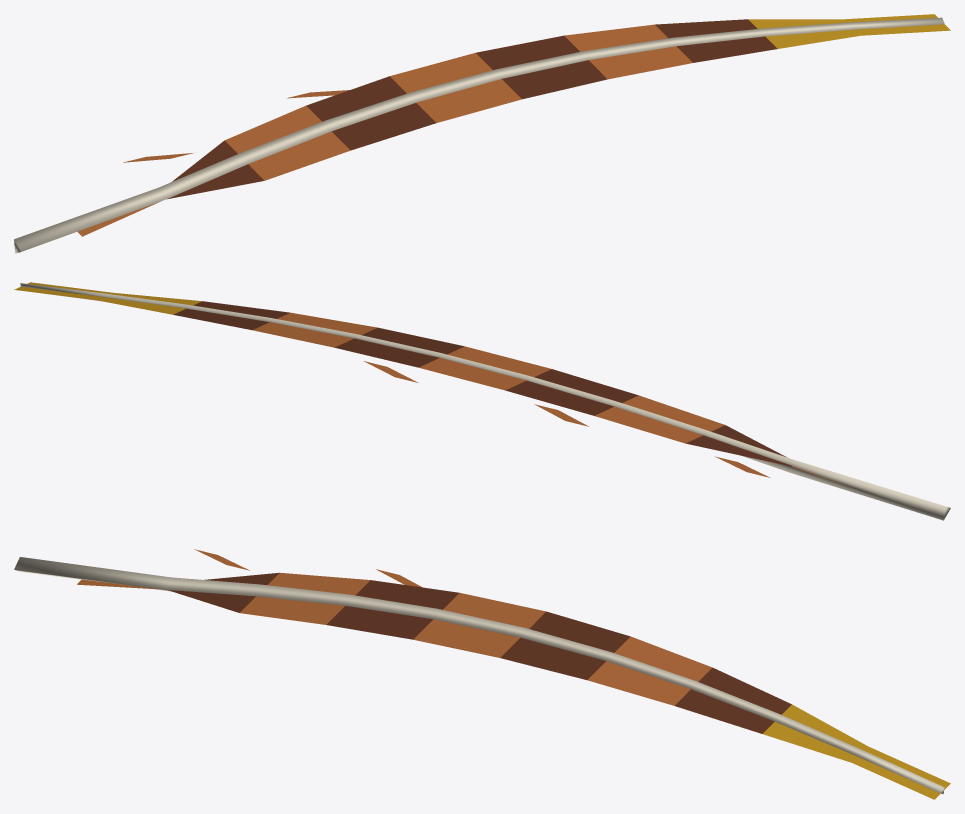
Rendered from col_feather_pheasant.gltf.
3 renders of one model, top to bottom at view 1: azimuth 30°, elevation 25°; view 2: azimuth 150°, elevation 25°; view 3: azimuth 330°, elevation 25°, orthographic.
Parts seen in each view (by area): view 1: col_feather_pheasant; view 2: col_feather_pheasant; view 3: col_feather_pheasant.
Part boxes in pixels (x1,y1,x2,y2): col_feather_pheasant: (14, 14, 950, 253); col_feather_pheasant: (14, 282, 950, 520); col_feather_pheasant: (14, 549, 950, 799).
Size of what is drawn, in the model's own units: 0.4507 by 0.0264 by 0.0485.
